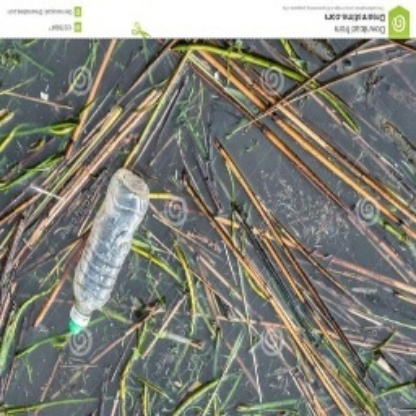bottle: (67, 168, 153, 337)
